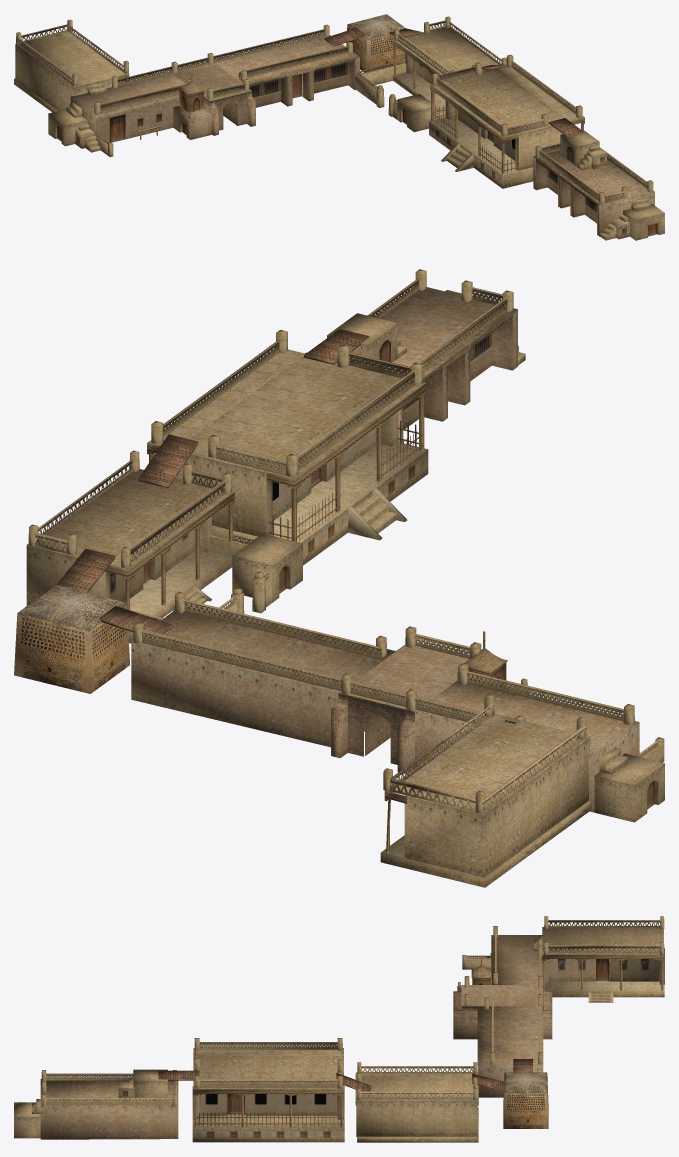
The model's file is w_cd_minga_group.glb.
3 views of the same model, one above another, from view 1: azimuth 30°, elevation 25°; view 2: azimuth 150°, elevation 25°; view 3: azimuth 270°, elevation 25° (orthographic). The views are drawn at different scales.
Parts seen in each view (by area): view 1: w_cd_minga_g_02_1, w_cd_minga_g_01_1, w_cd_minga_g_02_4, w_cd_minga_g_04_1, w_cd_minga_g_02_6, w_cd_minga_g_01_3, w_cd_minga_g_02_2, w_cd_minga_g_01_2, w_cd_minga_g_01_5, w_cd_minga_corner_03, w_cd_minga_g_04_2, w_cd_minga_g_02_3 (+2 smaller); view 2: w_cd_minga_g_02_1, w_cd_minga_g_01_1, w_cd_minga_g_04_1, w_cd_minga_g_02_4, w_cd_minga_g_02_6, w_cd_minga_g_01_3, w_cd_minga_corner_03, w_cd_minga_g_02_2, w_cd_minga_g_02_3, w_cd_minga_g_01_2, w_cd_minga_g_01_5, w_cd_minga_g_04_2 (+2 smaller); view 3: w_cd_minga_g_02_1, w_cd_minga_g_01_1, w_cd_minga_g_02_4, w_cd_minga_g_02_6, w_cd_minga_g_04_1, w_cd_minga_g_02_3, w_cd_minga_g_04_3, w_cd_minga_corner_03, w_cd_minga_g_04_2, w_cd_minga_g_01_2, w_cd_minga_g_02_2, w_cd_minga_g_01_4 (+1 smaller).
Boxes of the visible parts, left/top/right/bottom form: w_cd_minga_g_02_1: left=393, top=27, right=664, bottom=240; w_cd_minga_g_01_1: left=70, top=35, right=359, bottom=141; w_cd_minga_g_02_4: left=357, top=20, right=647, bottom=202; w_cd_minga_g_04_1: left=14, top=31, right=128, bottom=112; w_cd_minga_g_02_6: left=533, top=150, right=654, bottom=236; w_cd_minga_g_01_3: left=97, top=29, right=348, bottom=144; w_cd_minga_g_02_2: left=355, top=16, right=658, bottom=234; w_cd_minga_g_01_2: left=125, top=89, right=255, bottom=139; w_cd_minga_g_01_5: left=48, top=74, right=301, bottom=152; w_cd_minga_corner_03: left=346, top=14, right=405, bottom=72; w_cd_minga_g_04_2: left=16, top=24, right=129, bottom=85; w_cd_minga_g_02_3: left=389, top=28, right=584, bottom=160; w_cd_minga_g_02_1: left=26, top=290, right=525, bottom=617; w_cd_minga_g_01_1: left=131, top=604, right=639, bottom=812; w_cd_minga_g_04_1: left=380, top=713, right=590, bottom=887; w_cd_minga_g_02_4: left=35, top=278, right=507, bottom=620; w_cd_minga_g_02_6: left=376, top=287, right=517, bottom=442; w_cd_minga_g_01_3: left=142, top=599, right=658, bottom=757; w_cd_minga_corner_03: left=14, top=585, right=129, bottom=693; w_cd_minga_g_02_2: left=28, top=269, right=513, bottom=643; w_cd_minga_g_02_3: left=56, top=329, right=376, bottom=592; w_cd_minga_g_01_2: left=331, top=645, right=506, bottom=773; w_cd_minga_g_01_5: left=594, top=747, right=664, bottom=822; w_cd_minga_g_04_2: left=384, top=703, right=586, bottom=813; w_cd_minga_g_02_1: left=14, top=1048, right=478, bottom=1142; w_cd_minga_g_01_1: left=457, top=935, right=543, bottom=1097; w_cd_minga_g_02_4: left=42, top=1042, right=476, bottom=1126; w_cd_minga_g_02_6: left=40, top=1079, right=178, bottom=1139; w_cd_minga_g_04_1: left=542, top=927, right=664, bottom=1002; w_cd_minga_g_02_3: left=158, top=1070, right=505, bottom=1115; w_cd_minga_g_04_3: left=543, top=916, right=664, bottom=984; w_cd_minga_corner_03: left=503, top=1072, right=548, bottom=1128; w_cd_minga_g_04_2: left=542, top=920, right=664, bottom=960; w_cd_minga_g_01_2: left=453, top=978, right=552, bottom=1039; w_cd_minga_g_02_2: left=41, top=1038, right=478, bottom=1119; w_cd_minga_g_01_4: left=462, top=926, right=542, bottom=1064.
Bounding box in the file's own units: 44.51 × 7.08 × 65.6.
Materials: 9 (9 with a texture image).
